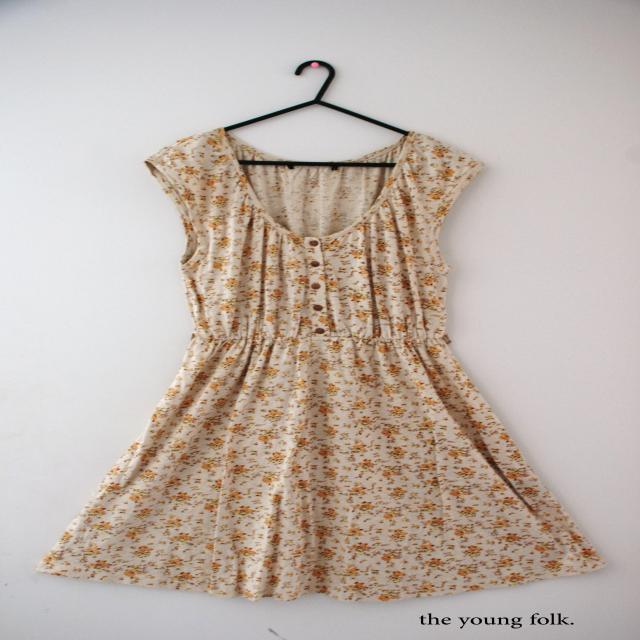Dress: (51, 123, 614, 606)
